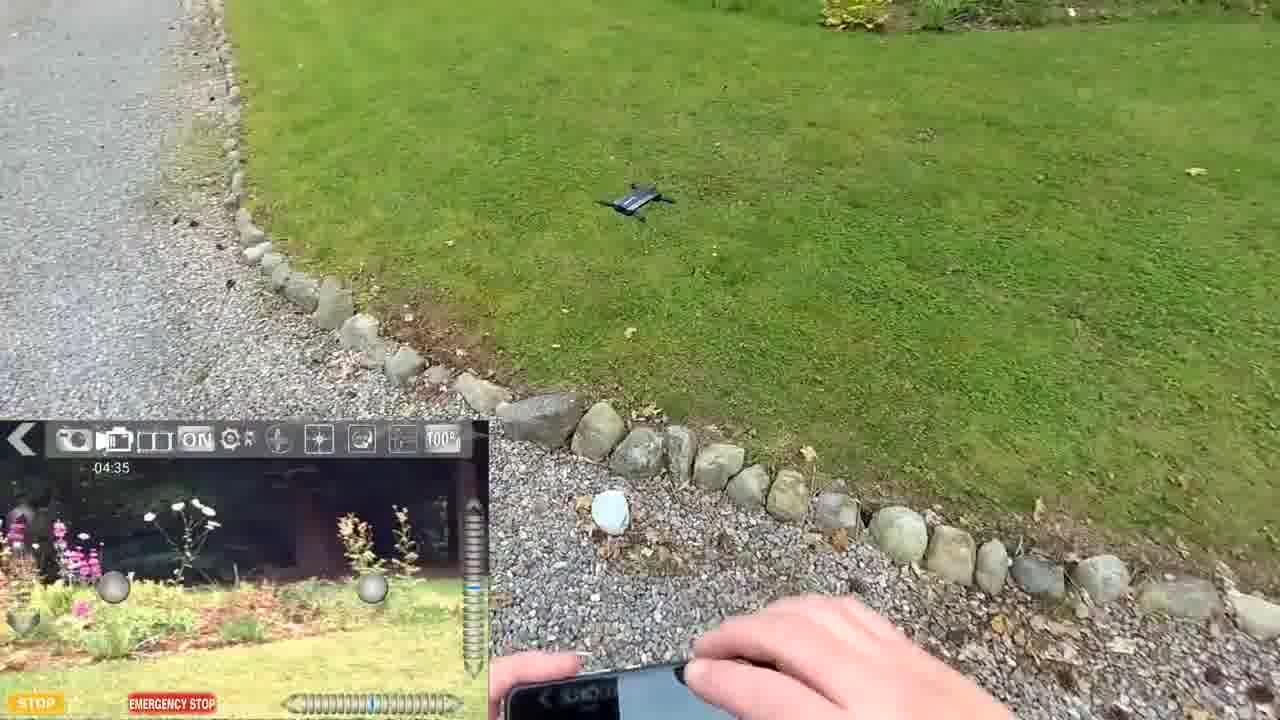drone: (589, 169, 686, 229)
